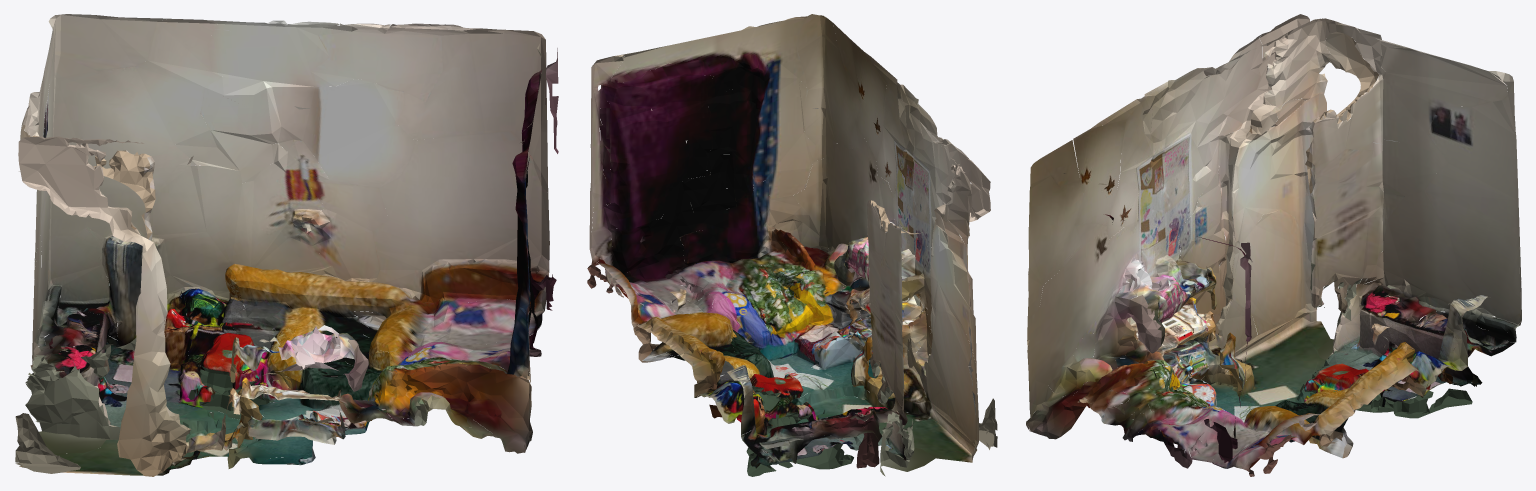
Rendered from NAOMI_house-smidge-scan.glb.
The picture shows the model from 3 angles, left to right: view 1: azimuth 30°, elevation 25°; view 2: azimuth 150°, elevation 25°; view 3: azimuth 270°, elevation 25°; orthographic projection. The views are drawn at different scales.
Visible parts, largest first — view 1: smidge.001; view 2: smidge.001; view 3: smidge.001.
Part boxes in pixels (bbox=[...]): smidge.001: bbox=[15, 14, 558, 476]; smidge.001: bbox=[587, 14, 997, 476]; smidge.001: bbox=[1026, 14, 1521, 476].
Size of the model in its own units: 7.92 by 5.38 by 7.26.
1 material, 1 textured.
